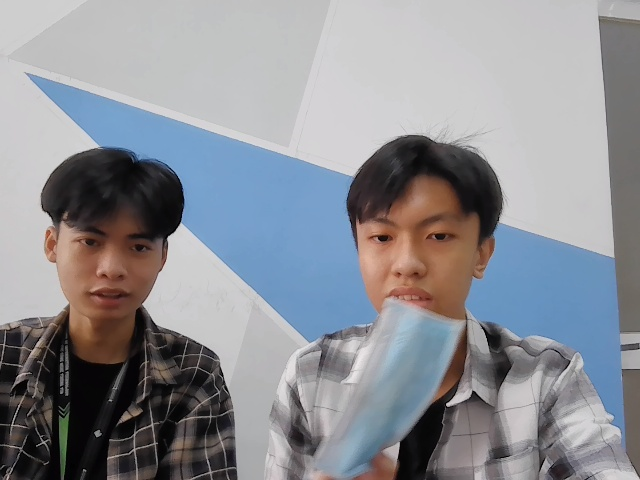human: (342, 137, 504, 322), (39, 152, 188, 318)
mask: (305, 295, 470, 478)
